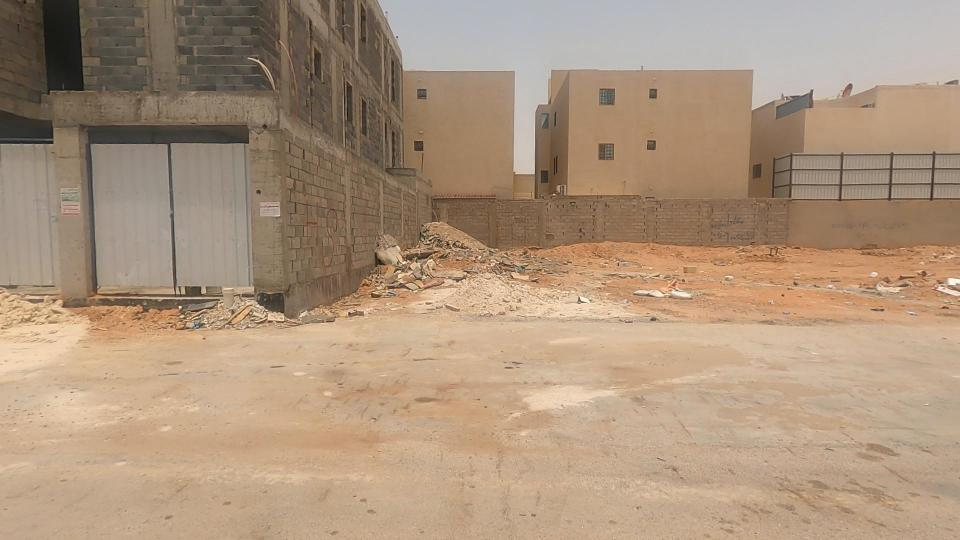GARBAGE: (303, 204, 513, 344), (123, 263, 378, 368), (788, 235, 960, 338), (601, 258, 732, 330)
